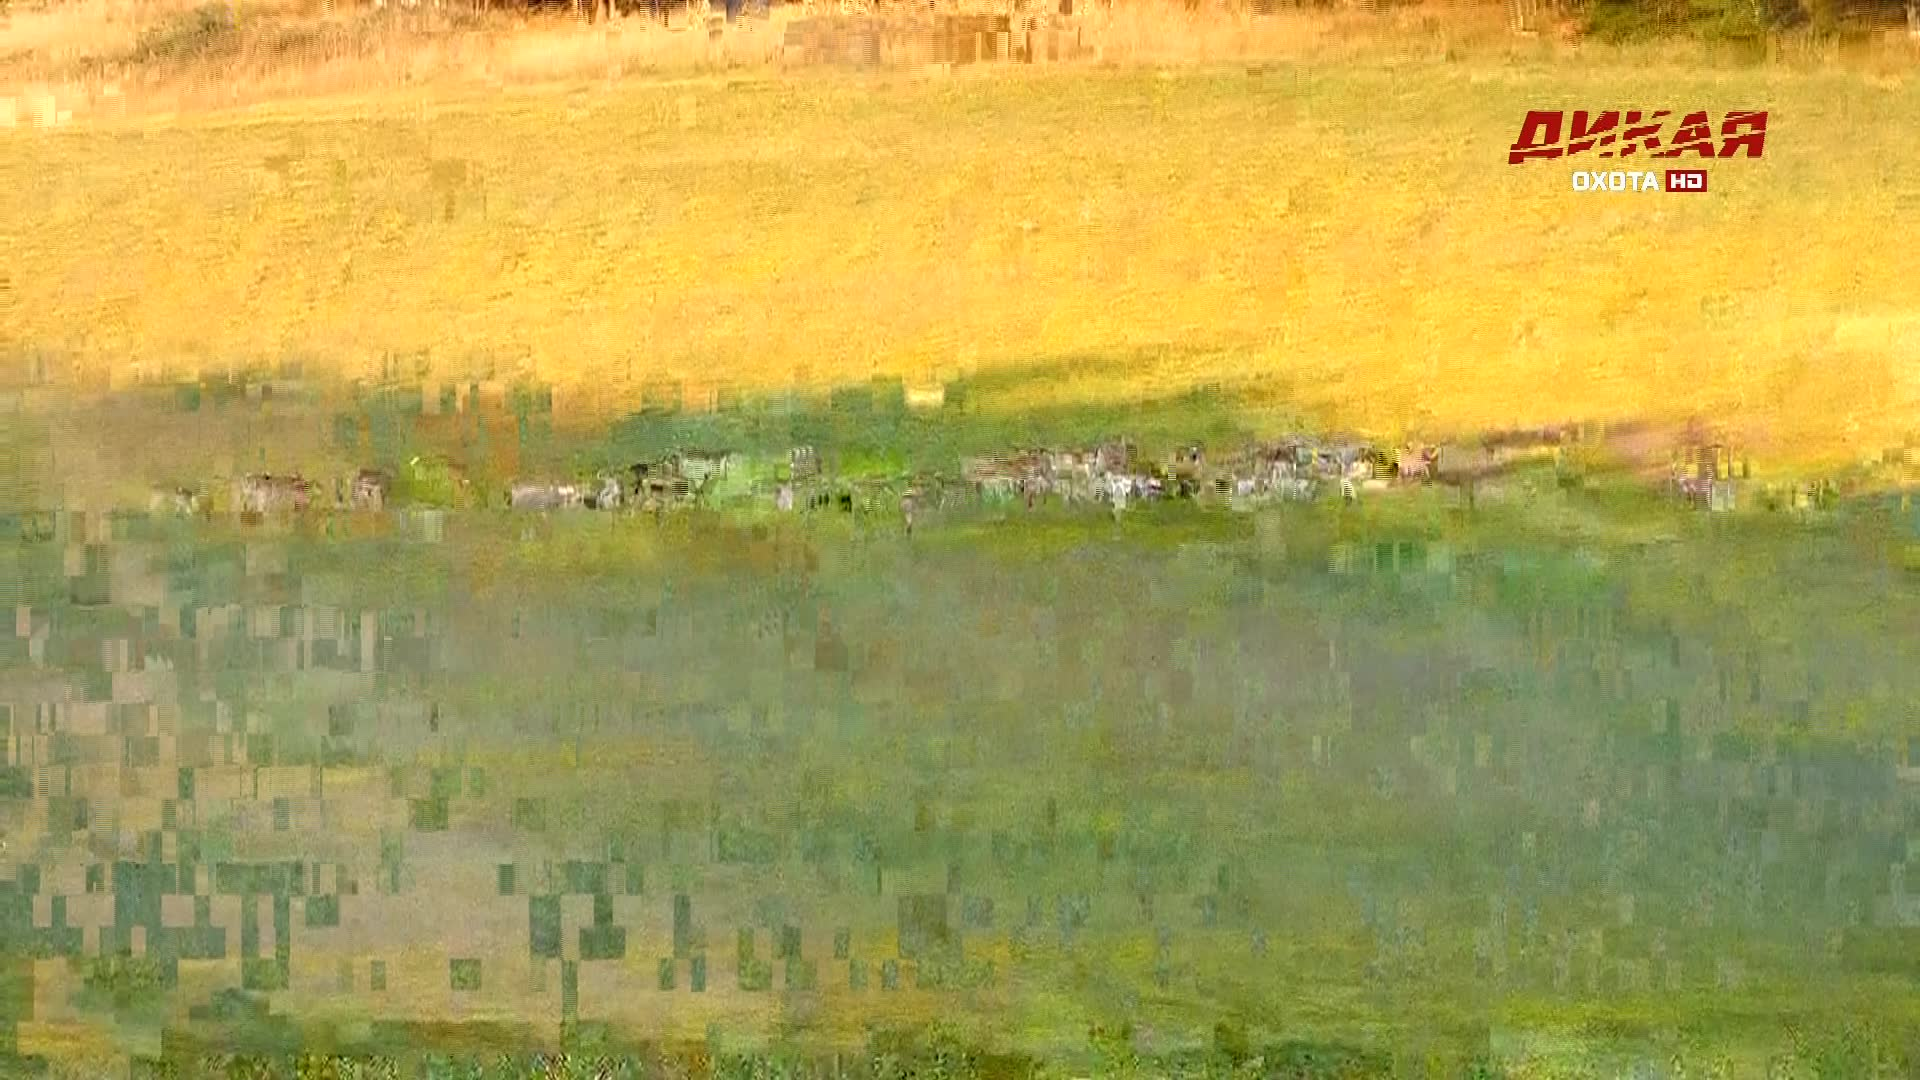Dikaya_Ohota_HD: (1505, 105, 1774, 195)
